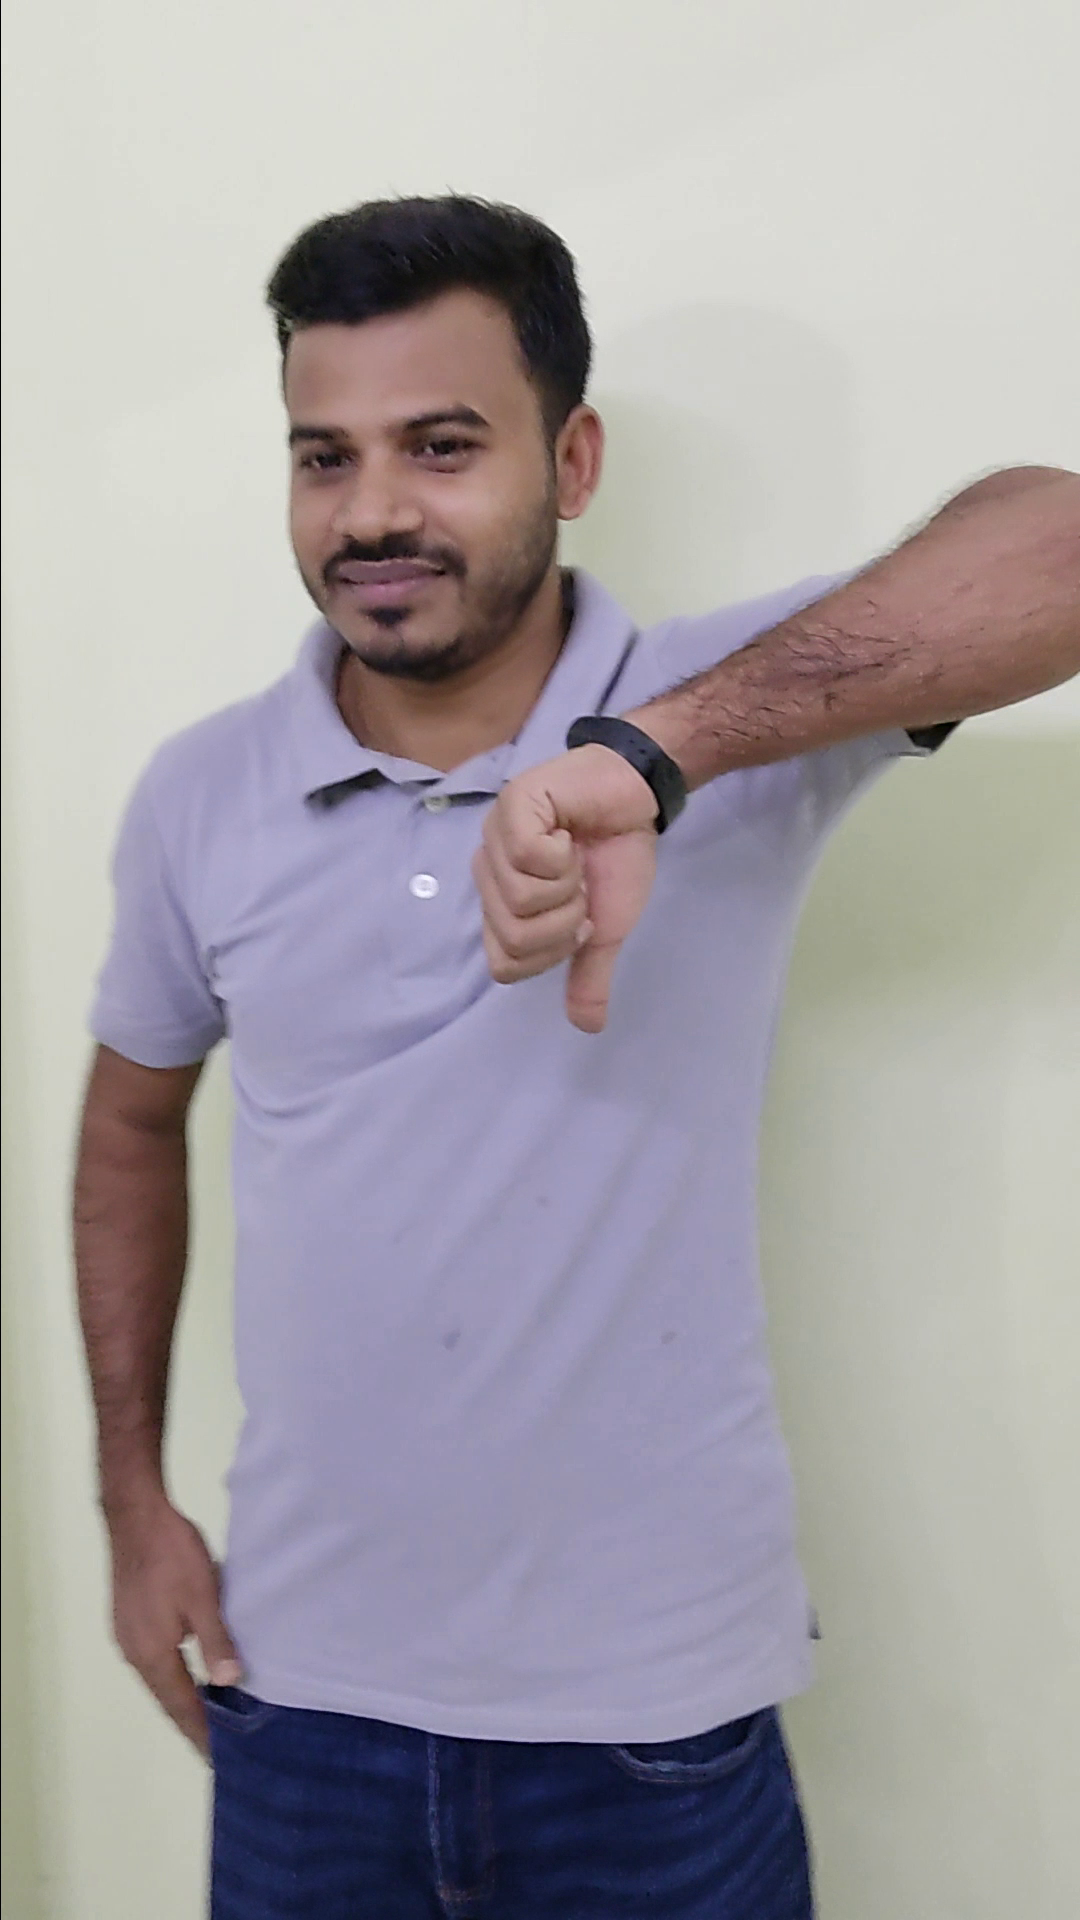Dislike: (448, 713, 673, 1050)
None: (80, 1484, 253, 1782)
